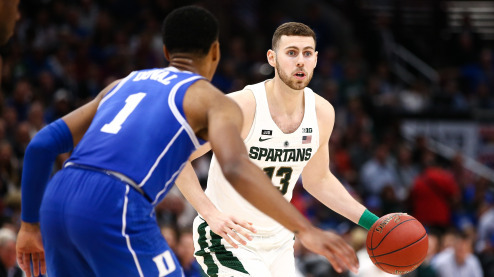ball: (366, 206, 435, 277)
breakthrough: (222, 13, 436, 277)
defense: (26, 6, 257, 277)
